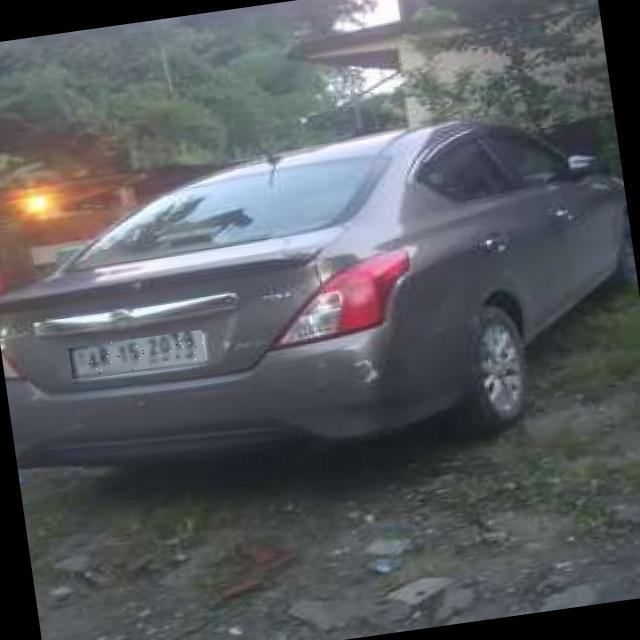Plate: (70, 331, 207, 380)
